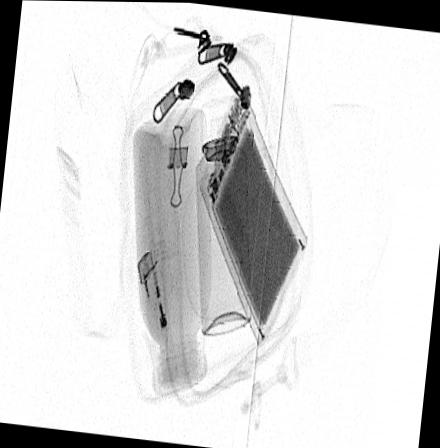Lighter: (136, 250, 180, 388)
Powerbank: (196, 81, 307, 345)
Sprayer: (195, 94, 249, 334)
